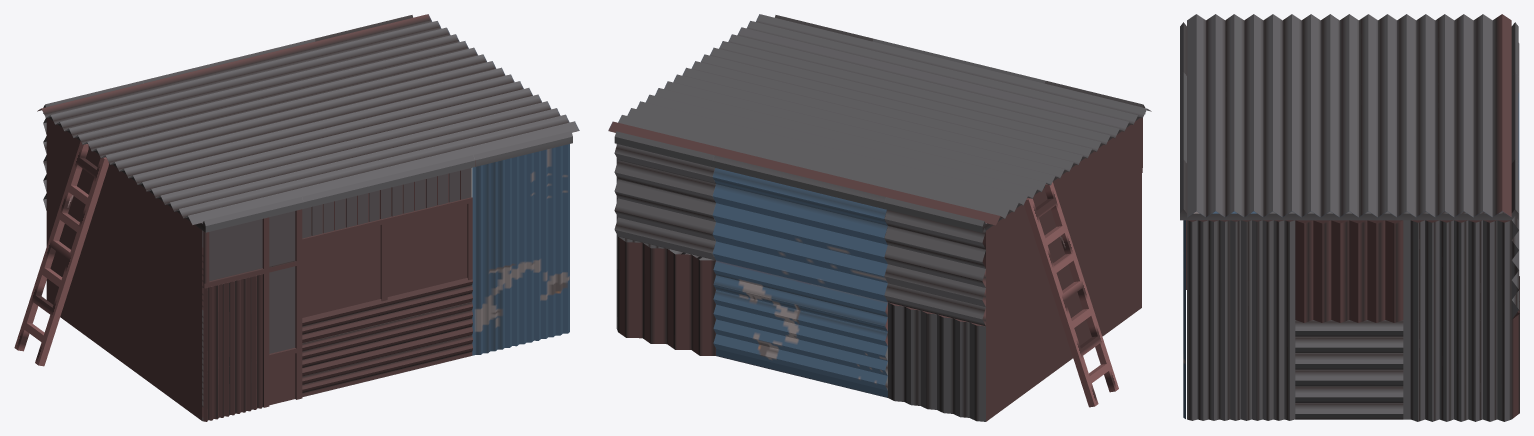
File: BuildingsV2TESTT.fbx
The picture shows the model from 3 angles, left to right: view 1: azimuth 30°, elevation 25°; view 2: azimuth 150°, elevation 25°; view 3: azimuth 270°, elevation 25°; orthographic projection. The views are drawn at different scales.
Parts seen in each view (by area): view 1: Cube.010, Cube.009, Cube.024, Cube.023, Cube.025, Cube.026, Ladder.001, Cube.027; view 2: Cube.010, Cube.048, Cube.009, Cube.050, Cube.051, Cube.049, Ladder.001; view 3: Cube.010, Cube.029, Cube.047, Cube.045, Cube.046, Cube.009, Cube.048, Cube.049, Cube.023.
Boxes of the visible parts, x1,y1,x2,y2 form: Cube.010: (37,14,579,225); Cube.009: (43,15,572,421); Cube.024: (203,209,302,421); Cube.023: (472,144,569,355); Cube.025: (302,197,472,317); Cube.026: (302,278,472,397); Ladder.001: (14,141,108,366); Cube.027: (302,168,471,238); Cube.010: (608,14,1151,225); Cube.048: (614,144,985,326); Cube.009: (614,15,1145,421); Cube.050: (713,260,887,397); Cube.051: (888,302,985,421); Cube.049: (618,237,715,355); Ladder.001: (1024,182,1118,407); Cube.010: (1187,14,1511,217); Cube.029: (1187,220,1295,420); Cube.047: (1403,220,1511,421); Cube.045: (1295,220,1403,322); Cube.046: (1295,320,1403,419); Cube.009: (1180,22,1518,223); Cube.048: (1511,43,1519,319); Cube.049: (1511,276,1519,418); Cube.023: (1183,220,1185,418).
Size of the model in its own units: 1745 by 1099 by 763.
